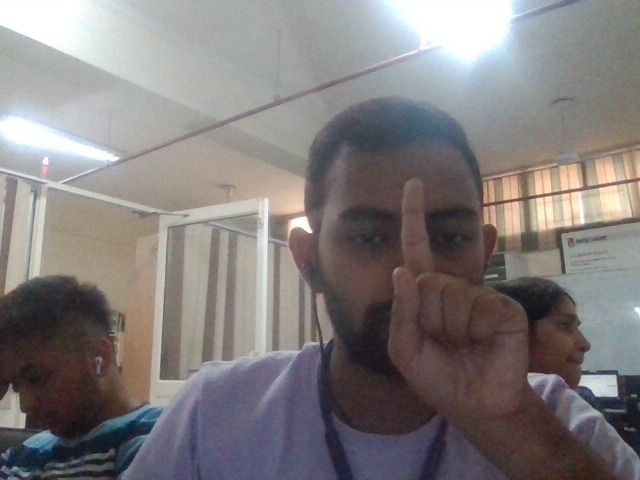Present: (386, 176, 531, 428)
